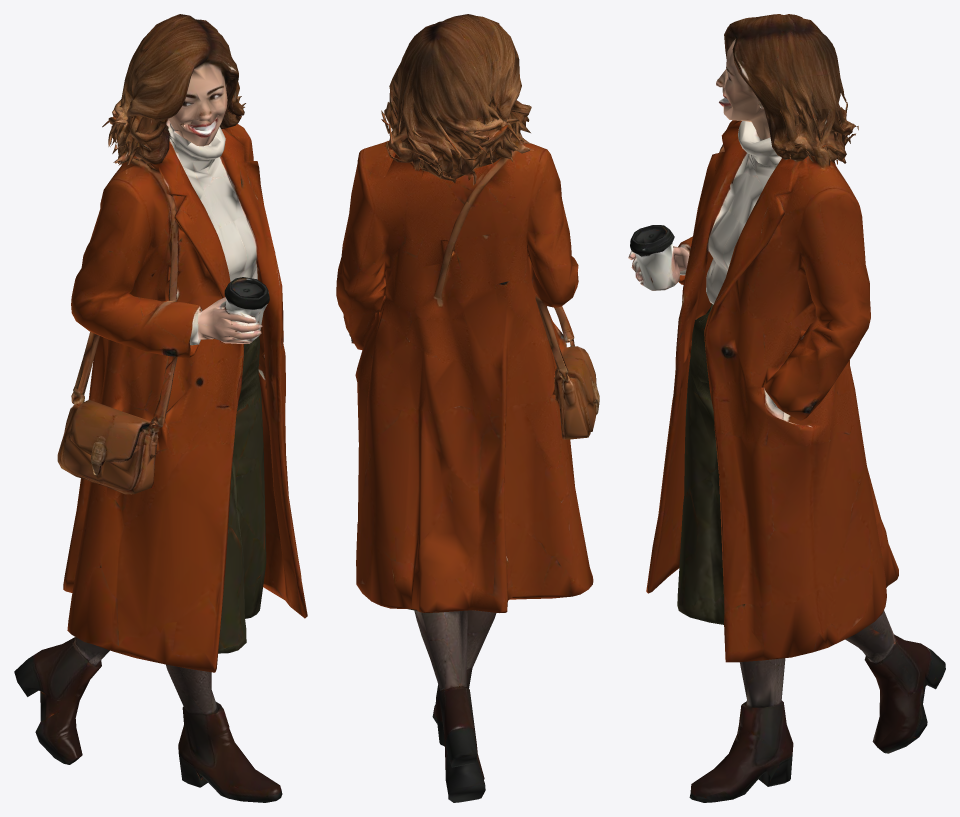
The model's file is coffee.glb.
3 views of the same model, side by side, from view 1: azimuth 30°, elevation 25°; view 2: azimuth 150°, elevation 25°; view 3: azimuth 270°, elevation 25° (orthographic). The views are drawn at different scales.
Size of the model in its own units: 0.6027 by 1.9 by 0.7145.
1 material, 1 textured.
